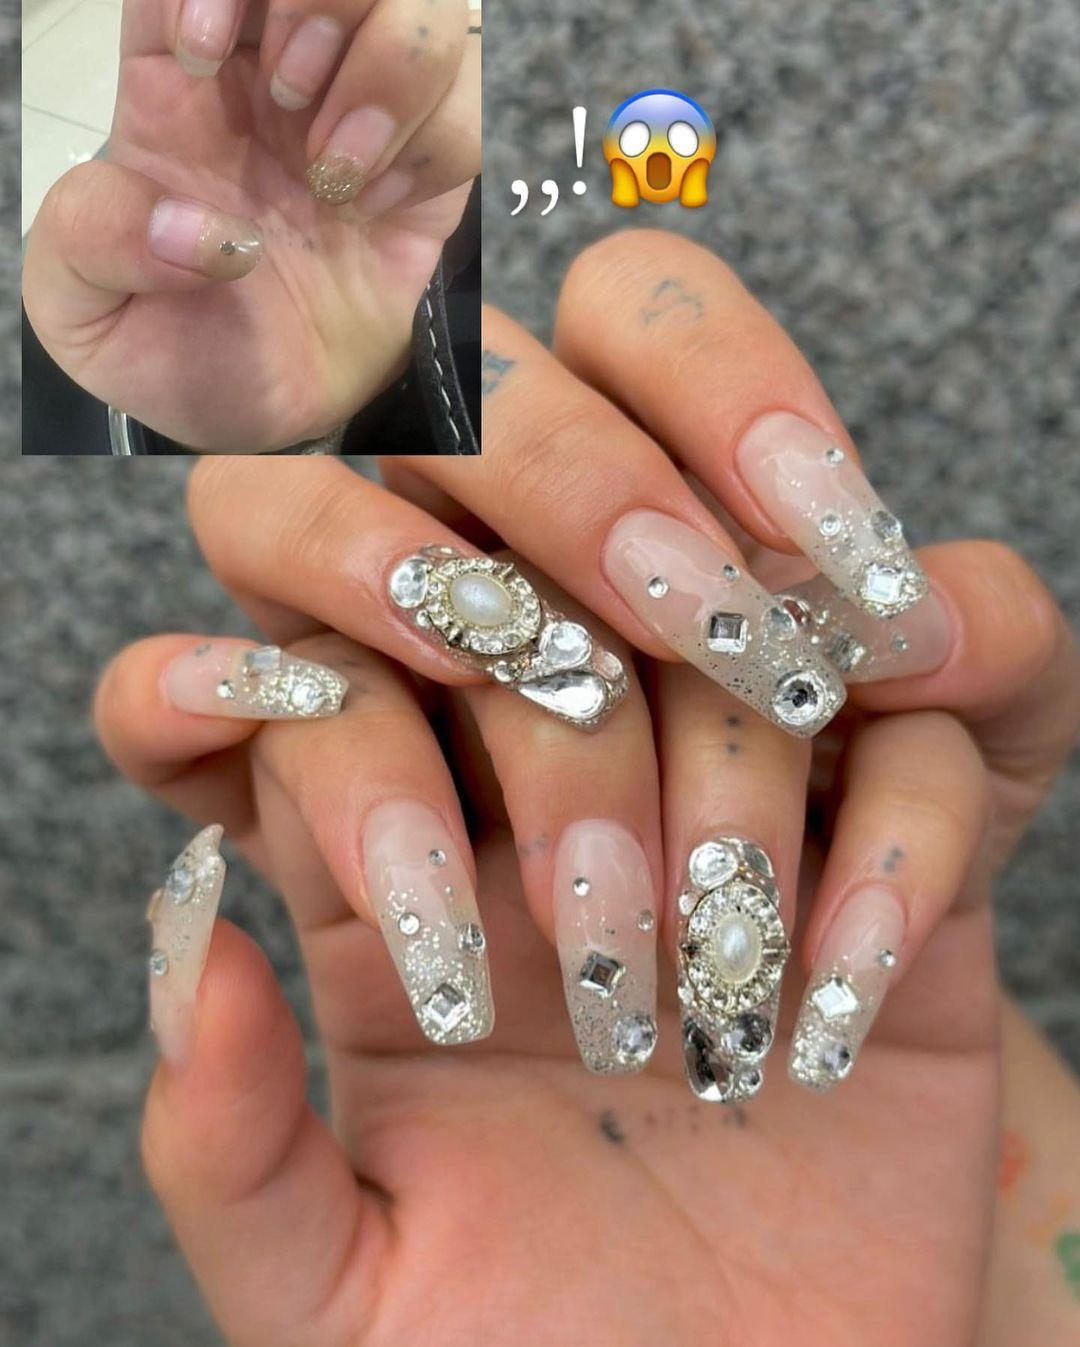nail: (598, 505, 847, 739), (731, 406, 931, 619), (357, 794, 495, 1046), (673, 834, 790, 1103), (549, 816, 659, 1075), (787, 877, 909, 1089), (144, 821, 226, 1068), (160, 637, 349, 721), (145, 194, 264, 281), (303, 103, 397, 205), (267, 12, 343, 112), (172, 0, 248, 78)
